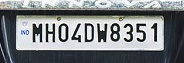0: (58, 22, 70, 43)
1: (150, 22, 160, 42)
3: (123, 22, 134, 43)
4: (71, 23, 83, 43)
5: (135, 22, 148, 43)
8: (110, 22, 122, 42)
D: (84, 22, 95, 43)
H: (45, 22, 56, 43)
M: (32, 22, 44, 43)
W: (96, 22, 108, 43)
